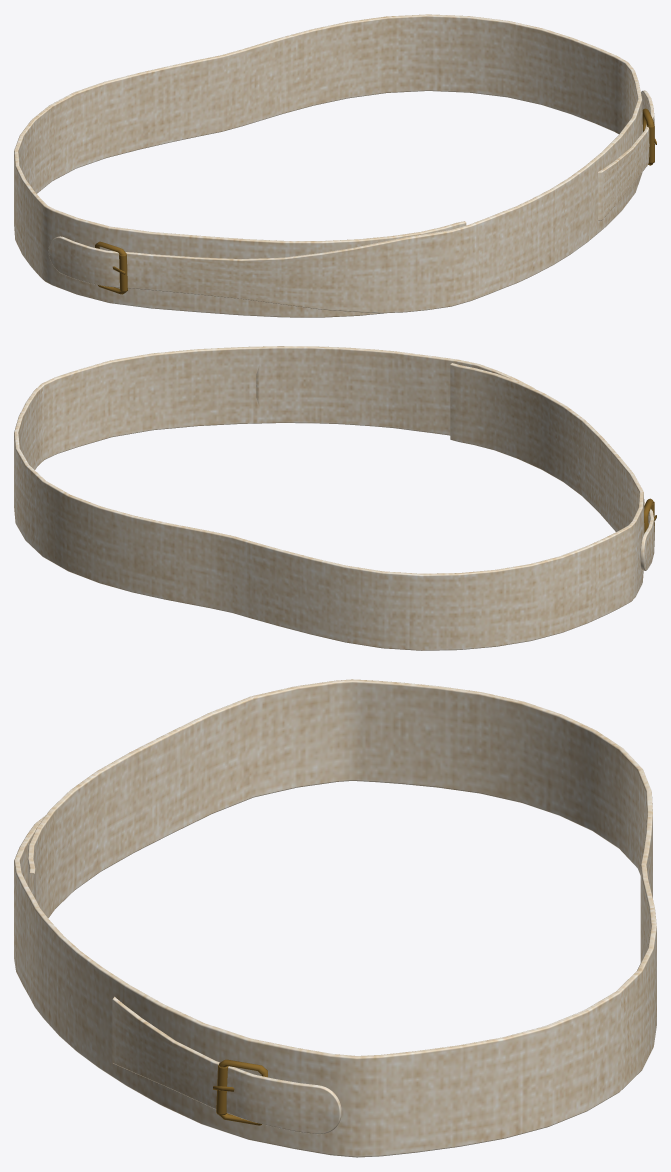
The model's file is Double_Side_Closure_5cm.glb.
3 renders of one model, top to bottom at view 1: azimuth 30°, elevation 25°; view 2: azimuth 150°, elevation 25°; view 3: azimuth 270°, elevation 25°, orthographic. The views are drawn at different scales.
Visible parts, largest first — view 1: Double_Side_Closure_5cm.001, Double_Side_Closure_huck; view 2: Double_Side_Closure_5cm.001; view 3: Double_Side_Closure_5cm.001, Double_Side_Closure_huck.
Part boxes in pixels (x1,y1,x2,y2): Double_Side_Closure_5cm.001: (14,14,654,317); Double_Side_Closure_huck: (95,108,656,294); Double_Side_Closure_5cm.001: (14,346,654,650); Double_Side_Closure_5cm.001: (14,679,656,1157); Double_Side_Closure_huck: (213,1059,267,1125).
Size of the model in its own units: 0.048 by 0.00577 by 0.0336.
Materials: 2 (1 with a texture image).
